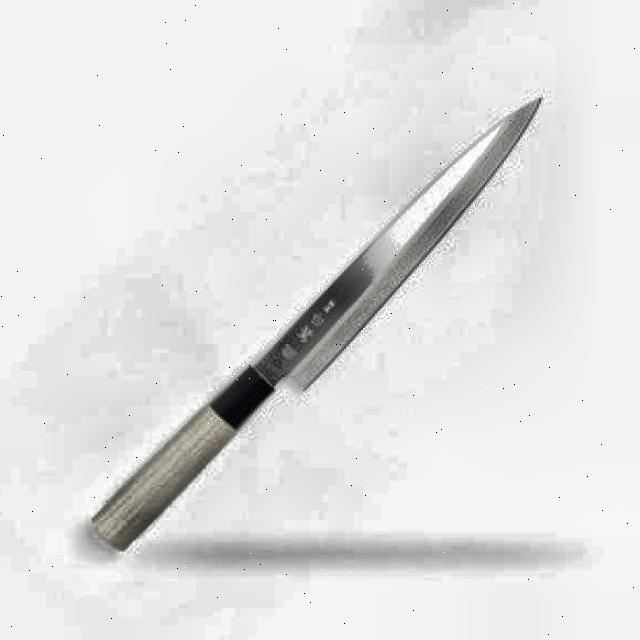knife: (84, 97, 542, 558)
